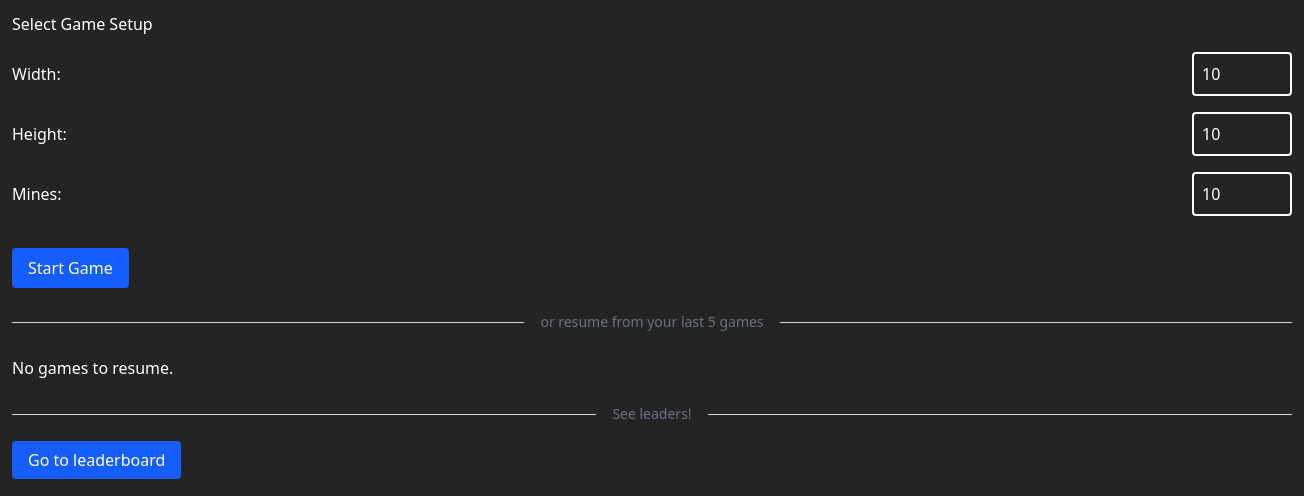
Test: NewGame Component › shows error message if game creation fails
The width and height of the screenshot is (1304, 496).
Click the button with test id "submit-button". click: click(70, 268)
box: [12,248,129,288]
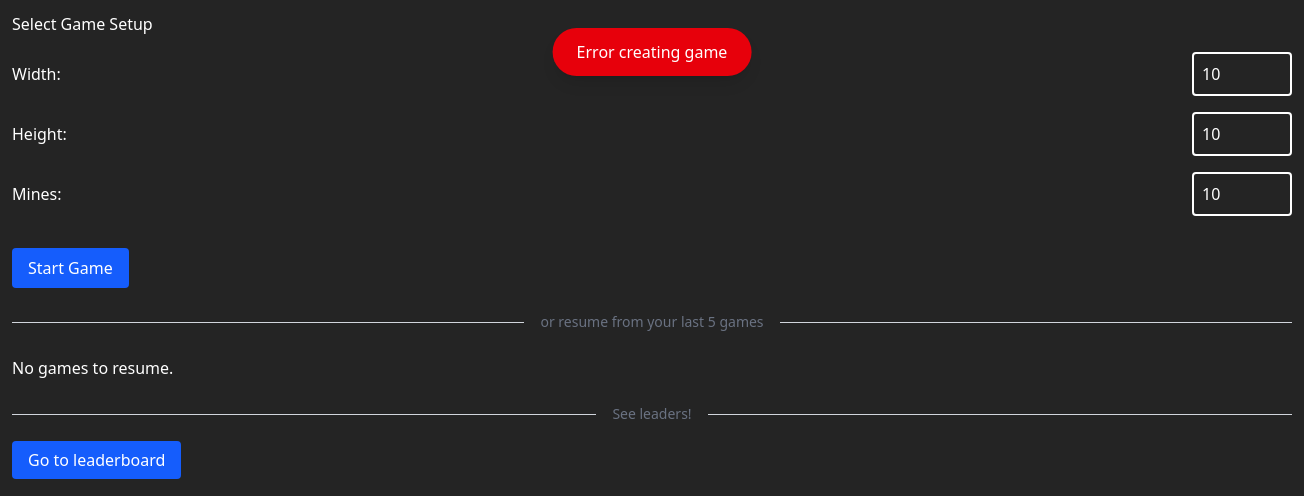
Check: the text "Error creating game" is shown, box [553,28,751,76]
